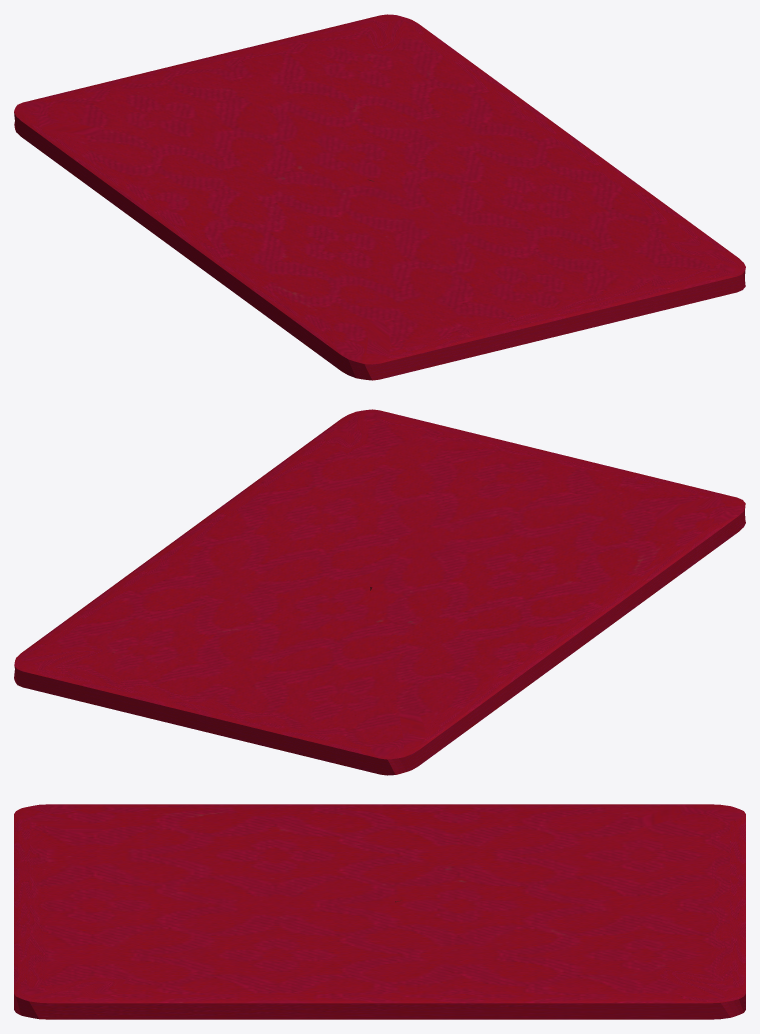
File: WelcomeMat.fbx
The picture shows the model from 3 angles, top to bottom: view 1: azimuth 30°, elevation 25°; view 2: azimuth 150°, elevation 25°; view 3: azimuth 270°, elevation 25°; orthographic projection. The views are drawn at different scales.
Parts seen in each view (by area): view 1: Cube; view 2: Cube; view 3: Cube.
Part boxes in pixels (box(x1,y1,x2,y2)): Cube: box(14, 14, 745, 380); Cube: box(14, 409, 745, 775); Cube: box(14, 804, 745, 1019).
Size of the model in its own units: 181 by 8.98 by 281.
Materials: 2 (1 with a texture image).
